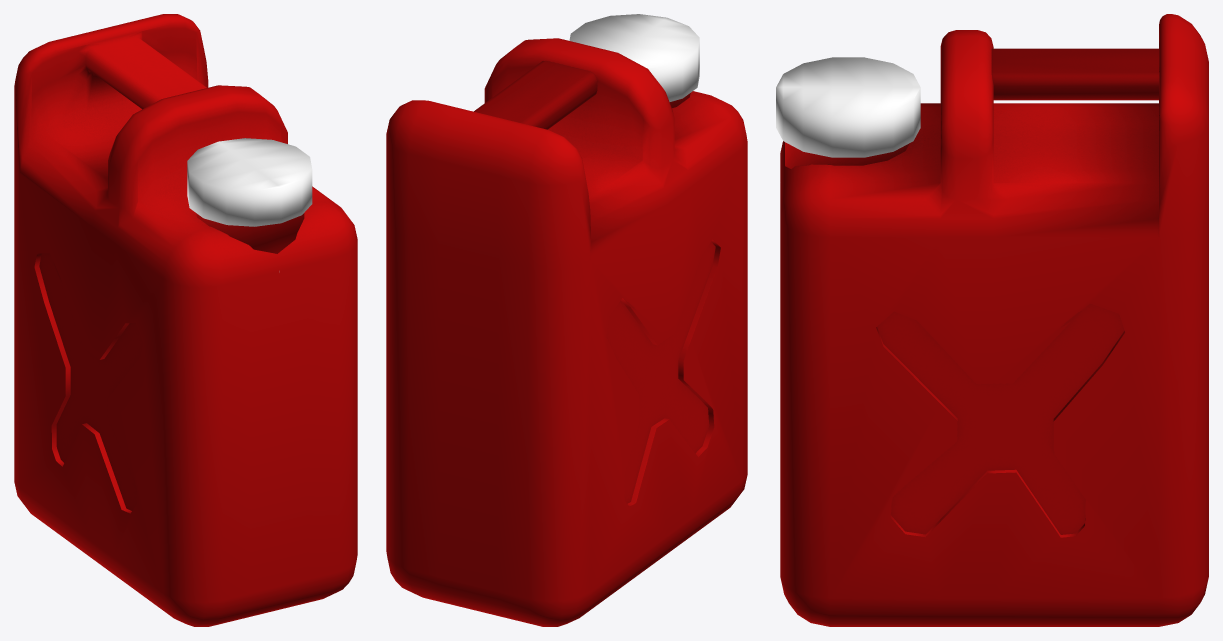
Rendered from ポリタンク.fbx.
The picture shows the model from 3 angles, left to right: view 1: azimuth 30°, elevation 25°; view 2: azimuth 150°, elevation 25°; view 3: azimuth 270°, elevation 25°; orthographic projection. The views are drawn at different scales.
Visible parts, largest first — view 1: 立方体; view 2: 立方体; view 3: 立方体.
Part boxes in pixels (box(x1,y1,x2,y2)): 立方体: box(14, 14, 357, 626); 立方体: box(386, 14, 747, 626); 立方体: box(776, 14, 1208, 626).
Size of the model in its own units: 207 by 494 by 359.
Materials: 1 (1 with a texture image).
